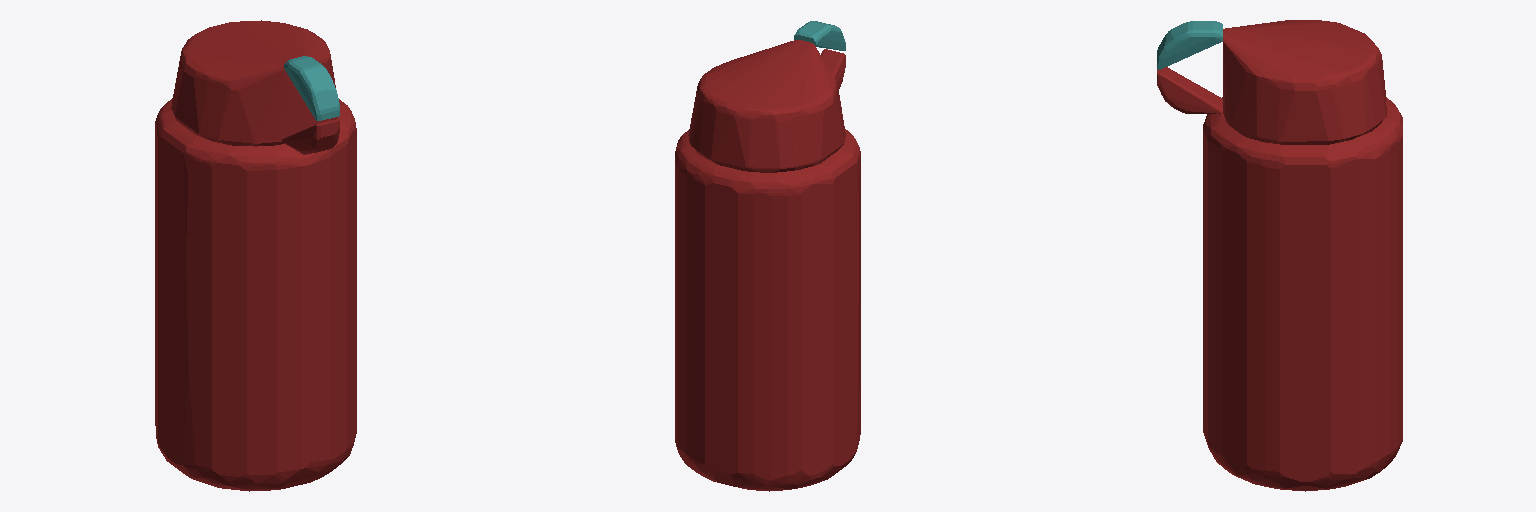
robot.urdf — root:
<robot name="root">
  <link name="bottle_body">
    <inertial>
      <origin xyz="0 0 0" rpy="0 0 0"/>
    </inertial>
    <mass value="1.00E-02"/>
    <visual>
      <origin xyz="0 0 0" rpy="0 0 0"/>
      <geometry>
        <mesh filename="core-bottle-681e91bbadebeac529471183b63392dc-coacd_convex_piece_1.obj" scale="1.0000E-01 1.0000E-01 1.0000E-01"/>
      </geometry>
      <material name="">
        <color rgba="6.00E-01 2.00E-01 2.00E-01 1"/>
      </material>
    </visual>
    <collision>
      <origin xyz="0 0 0" rpy="0 0 0"/>
      <geometry>
        <mesh filename="core-bottle-681e91bbadebeac529471183b63392dc-coacd_convex_piece_1.obj" scale="1.0000E-01 1.0000E-01 1.0000E-01"/>
      </geometry>
    </collision>
    <visual>
      <origin xyz="0 0 0" rpy="0 0 0"/>
      <geometry>
        <mesh filename="core-bottle-681e91bbadebeac529471183b63392dc-coacd_convex_piece_3.obj" scale="1.0000E-01 1.0000E-01 1.0000E-01"/>
      </geometry>
      <material name="">
        <color rgba="6.00E-01 2.00E-01 2.00E-01 1"/>
      </material>
    </visual>
    <collision>
      <origin xyz="0 0 0" rpy="0 0 0"/>
      <geometry>
        <mesh filename="core-bottle-681e91bbadebeac529471183b63392dc-coacd_convex_piece_3.obj" scale="1.0000E-01 1.0000E-01 1.0000E-01"/>
      </geometry>
    </collision>
    <visual>
      <origin xyz="0 0 0" rpy="0 0 0"/>
      <geometry>
        <mesh filename="core-bottle-681e91bbadebeac529471183b63392dc-coacd_convex_piece_0.obj" scale="1.0000E-01 1.0000E-01 1.0000E-01"/>
      </geometry>
      <material name="">
        <color rgba="6.00E-01 2.00E-01 2.00E-01 1"/>
      </material>
    </visual>
    <collision>
      <origin xyz="0 0 0" rpy="0 0 0"/>
      <geometry>
        <mesh filename="core-bottle-681e91bbadebeac529471183b63392dc-coacd_convex_piece_0.obj" scale="1.0000E-01 1.0000E-01 1.0000E-01"/>
      </geometry>
    </collision>
  </link>
  <link name="bottle_cap">
    <origin xyz="0 0 0.002" rpy="0 0 0"/>
    <mass value="1.00E-02"/>
    <visual>
      <origin xyz="0 0 0.002" rpy="0 0 0"/>
      <geometry>
        <mesh filename="core-bottle-681e91bbadebeac529471183b63392dc-coacd_convex_piece_2.obj" scale="1.0000E-01 1.0000E-01 1.0000E-01"/>
      </geometry>
      <material name="">
        <color rgba="3.00E-01 6.00E-01 6.00E-01 1"/>
      </material>
    </visual>
    <collision>
      <origin xyz="0 0 0.002" rpy="0 0 0"/>
      <geometry>
        <mesh filename="core-bottle-681e91bbadebeac529471183b63392dc-coacd_convex_piece_2.obj" scale="1.0000E-01 1.0000E-01 1.0000E-01"/>
      </geometry>
    </collision>
  </link>
  <joint name="bottle_cap_joint" type="revolute">
    <origin xyz="0 0 0" rpy="0 0 0"/>
    <parent link="bottle_body"/>
    <child link="bottle_cap"/>
    <axis xyz="0 0 1"/>
    <limit lower="0.00" upper="6.28"/>
    <dynamics damping="0.05"/>
  </joint>
</robot>

--- What the picture shows (computed from the rendered views, not written in the file) ---
3 views of the same robot in one strip: view 1: azimuth 30°, elevation 25°; view 2: azimuth 150°, elevation 25°; view 3: azimuth 270°, elevation 25° (orthographic).
Model root with 2 links and 1 joints (1 revolute), rooted at bottle_body, posed all joints at 0.
Visible links, largest first — view 1: bottle_body, bottle_cap; view 2: bottle_body, bottle_cap; view 3: bottle_body, bottle_cap.
Boxes of the visible links, x1,y1,x2,y2 form: bottle_body: (155, 20, 356, 491); bottle_cap: (284, 56, 339, 120); bottle_body: (675, 40, 860, 491); bottle_cap: (794, 21, 845, 50); bottle_body: (1157, 20, 1402, 491); bottle_cap: (1157, 21, 1222, 69).
Bounding box of the posed robot: 0.075 × 0.0947 × 0.1836 m (x, y, z).
4 mesh visuals loaded from 4 distinct referenced files (4 OBJ).